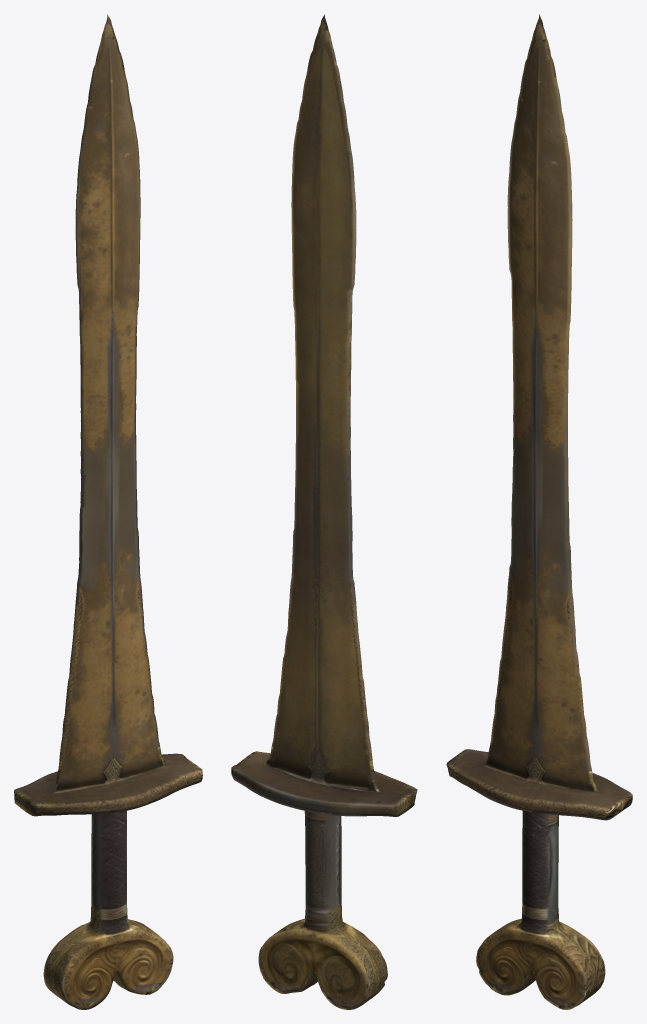
The model's file is espadaDeAntenas.glb.
3 views of the same model, side by side, from view 1: azimuth 30°, elevation 25°; view 2: azimuth 150°, elevation 25°; view 3: azimuth 330°, elevation 25° (orthographic).
Bounding box in the file's own units: 0.3574 × 2 × 0.1764.
1 material, 1 textured.
